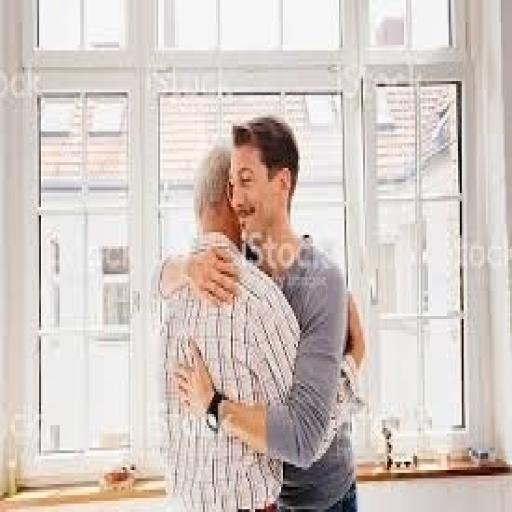hugging: (154, 115, 365, 509)
